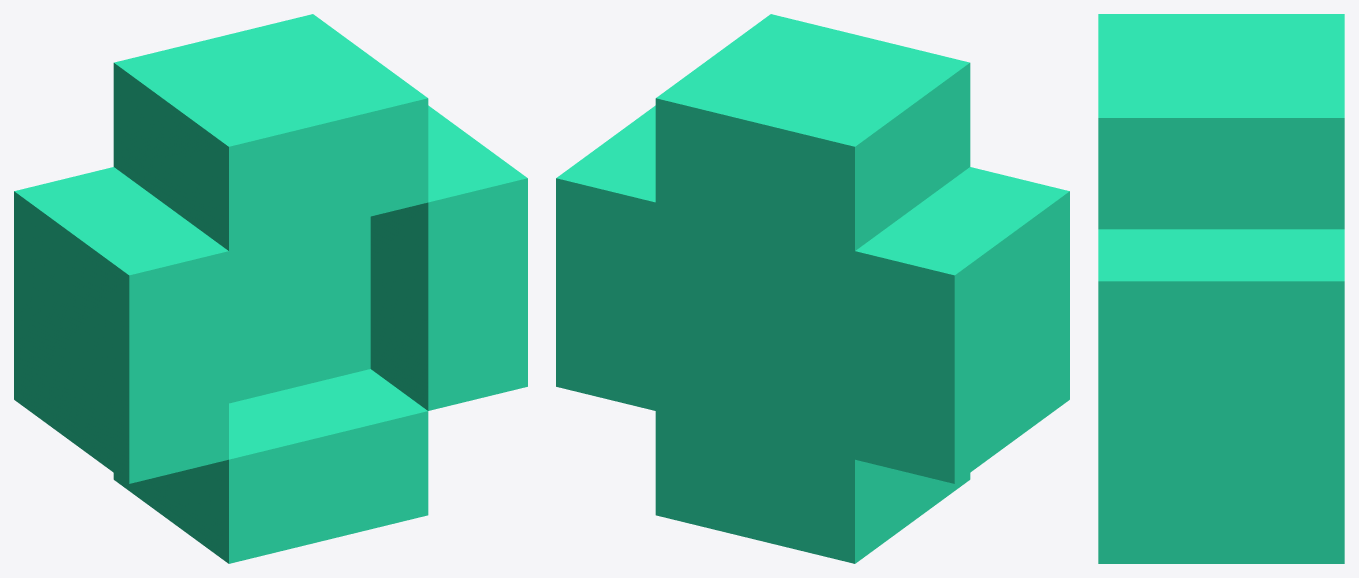
Rendered from turqr.fbx.
3 renders of one model, left to right at view 1: azimuth 30°, elevation 25°; view 2: azimuth 150°, elevation 25°; view 3: azimuth 270°, elevation 25°, orthographic. The views are drawn at different scales.
Visible parts, largest first — view 1: cube.004, cube.005, cube.002, cube.003, cube.001; view 2: cube.004, cube.005, cube.001, cube.002, cube.003; view 3: cube.003, cube.005, cube.002.
Part boxes in pixels (x1,y1,x2,y2): cube.004: (14,167,228,483); cube.005: (113,14,428,250); cube.002: (113,369,428,563); cube.003: (370,105,527,410); cube.001: (229,216,370,403); cube.004: (855,167,1069,483); cube.005: (655,14,970,250); cube.001: (655,202,854,459); cube.002: (655,411,970,563); cube.003: (556,105,655,410); cube.003: (1098,229,1344,504); cube.005: (1098,14,1344,229); cube.002: (1098,504,1344,563).
Bounding box in the file's own units: 25 × 25 × 12.5.
